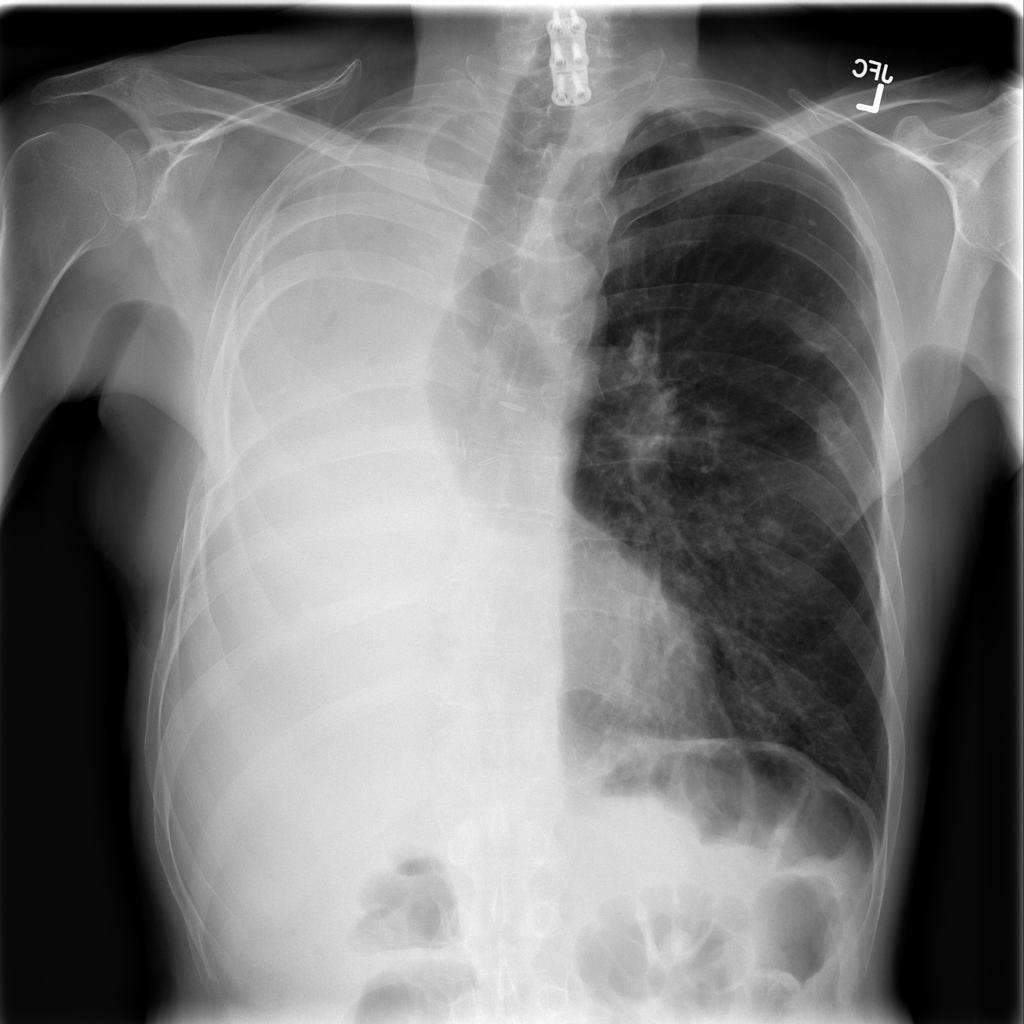nodule: (744, 502, 798, 554), (794, 202, 829, 238)
